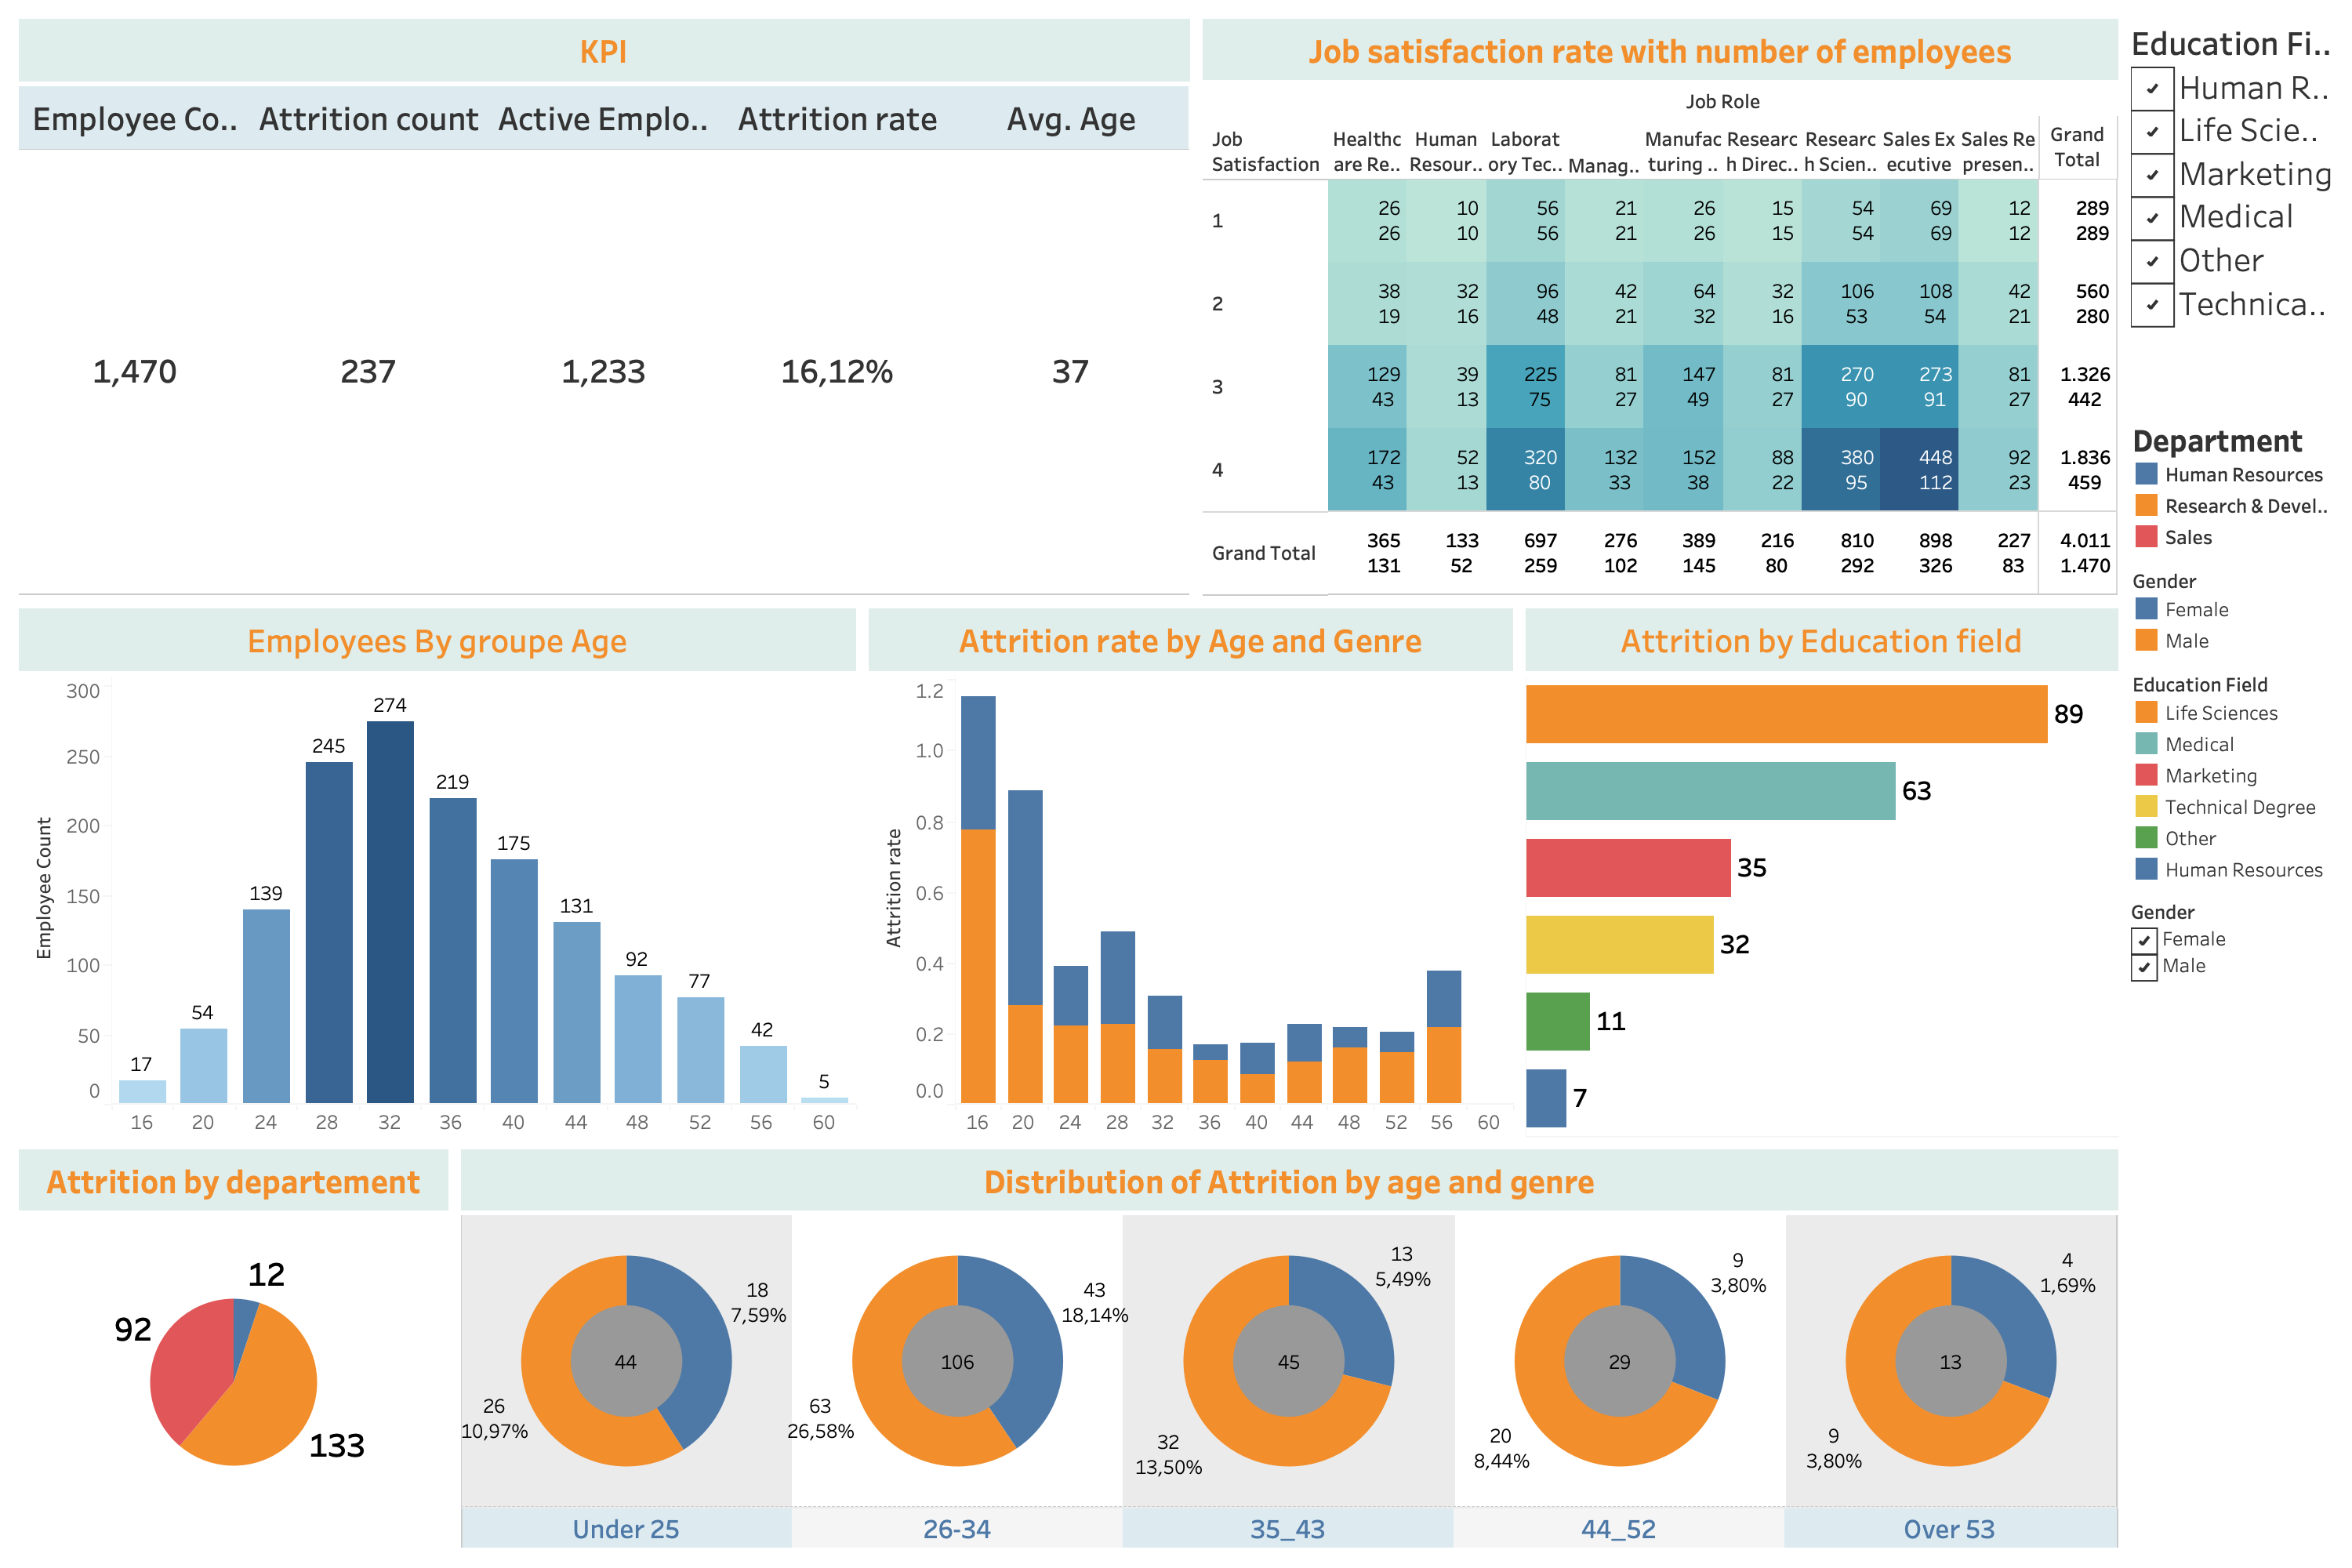

This screenshot's page, from the dashboard's own definition file:
{"tool":"tableau","page":{"name":"Dashboard 1","canvas":[1500,1000],"ordinal":0},"visuals":[{"type":"worksheet","title":"KPI","mark":"Automatic","box":[8,8,754.9,376]},{"type":"worksheet","title":"Job satisfaction rate with number of employees","mark":"Square","rows":["JobSatisfaction"],"cols":["JobRole"],"box":[762.9,8,592.1,376]},{"type":"filter","title":"KPI","param":"[federated.0tf6grr0678ioh1balnei0mk1a7s].[none:EducationField:nk]","box":[1355,8,137,253]},{"type":"legend","title":"Attrition by departement","param":"[federated.0tf6grr0678ioh1balnei0mk1a7s].[none:Department:nk]","box":[1355,261,137,95]},{"type":"legend","title":"Attrition rate by Age and Genre ","param":"[federated.0tf6grr0678ioh1balnei0mk1a7s].[none:Gender:nk]","box":[1355,356,137,66]},{"type":"worksheet","title":"Employees By groupe Age","mark":"Automatic","rows":["EmployeeCount"],"cols":["Age (bin) 2"],"box":[8,384,542.3,345]},{"type":"worksheet","title":"Attrition rate by Age and Genre ","mark":"Automatic","rows":["Calculation_604819365883326466"],"cols":["Age (bin) 2"],"box":[550.3,384,419.1,345]},{"type":"worksheet","title":"Attrition by Education field ","mark":"Automatic","rows":["EducationField"],"cols":["Calculation_604819365881769985"],"box":[969.4,384,385.6,345]},{"type":"legend","title":"Attrition by Education field ","param":"[federated.0tf6grr0678ioh1balnei0mk1a7s].[none:EducationField:nk]","box":[1355,422,137,146]},{"type":"filter","title":"Attrition rate by Age and Genre ","param":"[federated.0tf6grr0678ioh1balnei0mk1a7s].[none:Gender:nk]","box":[1355,568,137,89]},{"type":"worksheet","title":"Attrition by departement","mark":"Pie","box":[8,729,281.8,263]},{"type":"worksheet","title":"Distribution of Attrition by age and genre ","mark":"Pie","rows":["Calculation_604819366184218629","Calculation_604819366184218629"],"box":[289.8,729,1065.2,263]}]}

Visuals, with their boxes in screenshot pixels (x1, y1, x2, y2), scaled from the page's 1500x1000 canvas onto the 2352x1568 screenshot:
"KPI" worksheet: [x1=13, y1=13, x2=1196, y2=602]
"Job satisfaction rate with number of employees" worksheet (Square marks): [x1=1196, y1=13, x2=2125, y2=602]
"KPI" filter: [x1=2125, y1=13, x2=2339, y2=409]
"Attrition by departement" legend: [x1=2125, y1=409, x2=2339, y2=558]
"Attrition rate by Age and Genre " legend: [x1=2125, y1=558, x2=2339, y2=662]
"Employees By groupe Age" worksheet: [x1=13, y1=602, x2=863, y2=1143]
"Attrition rate by Age and Genre " worksheet: [x1=863, y1=602, x2=1520, y2=1143]
"Attrition by Education field " worksheet: [x1=1520, y1=602, x2=2125, y2=1143]
"Attrition by Education field " legend: [x1=2125, y1=662, x2=2339, y2=891]
"Attrition rate by Age and Genre " filter: [x1=2125, y1=891, x2=2339, y2=1030]
"Attrition by departement" worksheet (Pie marks): [x1=13, y1=1143, x2=455, y2=1555]
"Distribution of Attrition by age and genre " worksheet (Pie marks): [x1=455, y1=1143, x2=2125, y2=1555]
